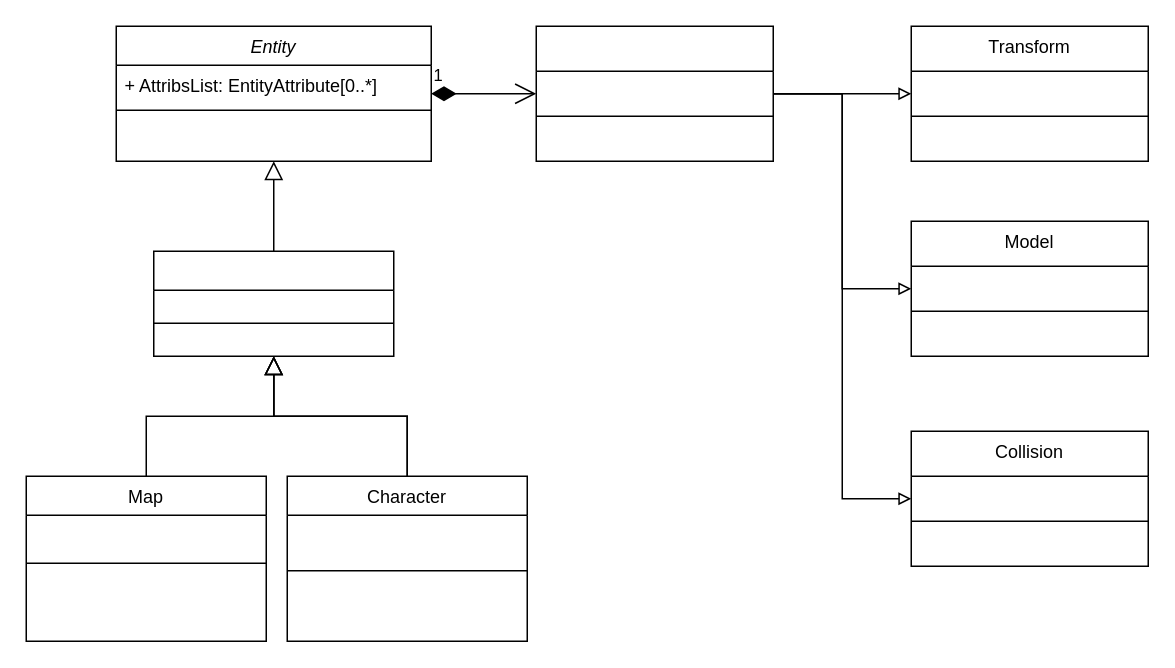
Image size: 1175x668. Some labels were removed from this diagram. The box of each missing label's shape, as (x1, y1, x2, y2) in pixels:
EntityAttribute: (535, 25, 773, 161)
Prop: (152, 250, 394, 356)
